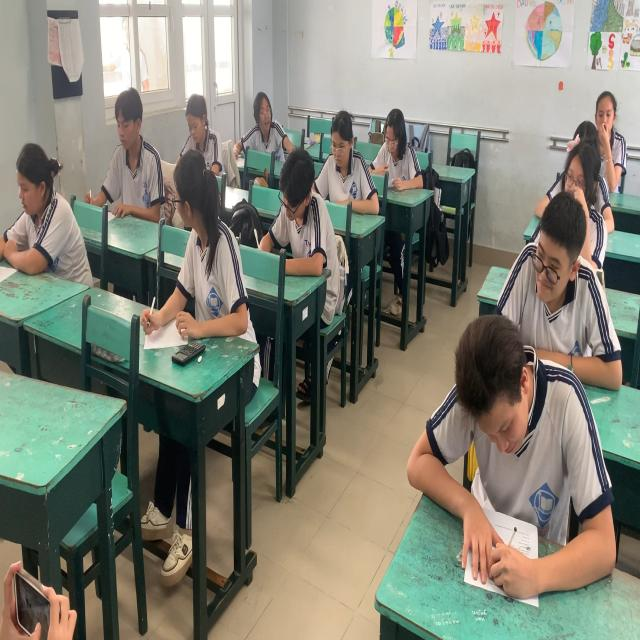cheating: (160, 148, 252, 348), (236, 84, 287, 162)
not_cheating: (410, 309, 602, 524), (507, 197, 605, 341), (0, 124, 79, 280), (256, 139, 346, 273), (93, 72, 158, 201), (310, 93, 373, 201), (166, 75, 222, 169), (374, 94, 426, 192), (542, 136, 604, 212), (582, 81, 628, 175)
